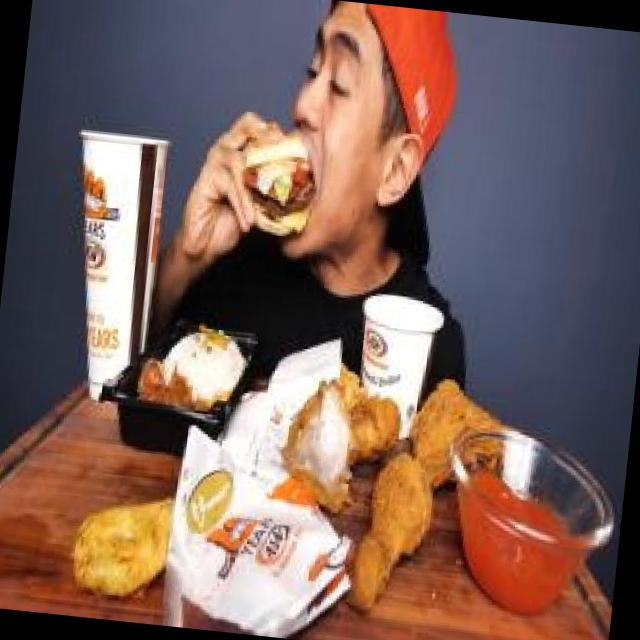AW cola: (49, 104, 181, 420)
black pepper rice bowl: (128, 301, 262, 438)
fried chicken: (264, 360, 520, 612)
mozza burger: (230, 111, 326, 257)
perkedel: (56, 462, 181, 620)
